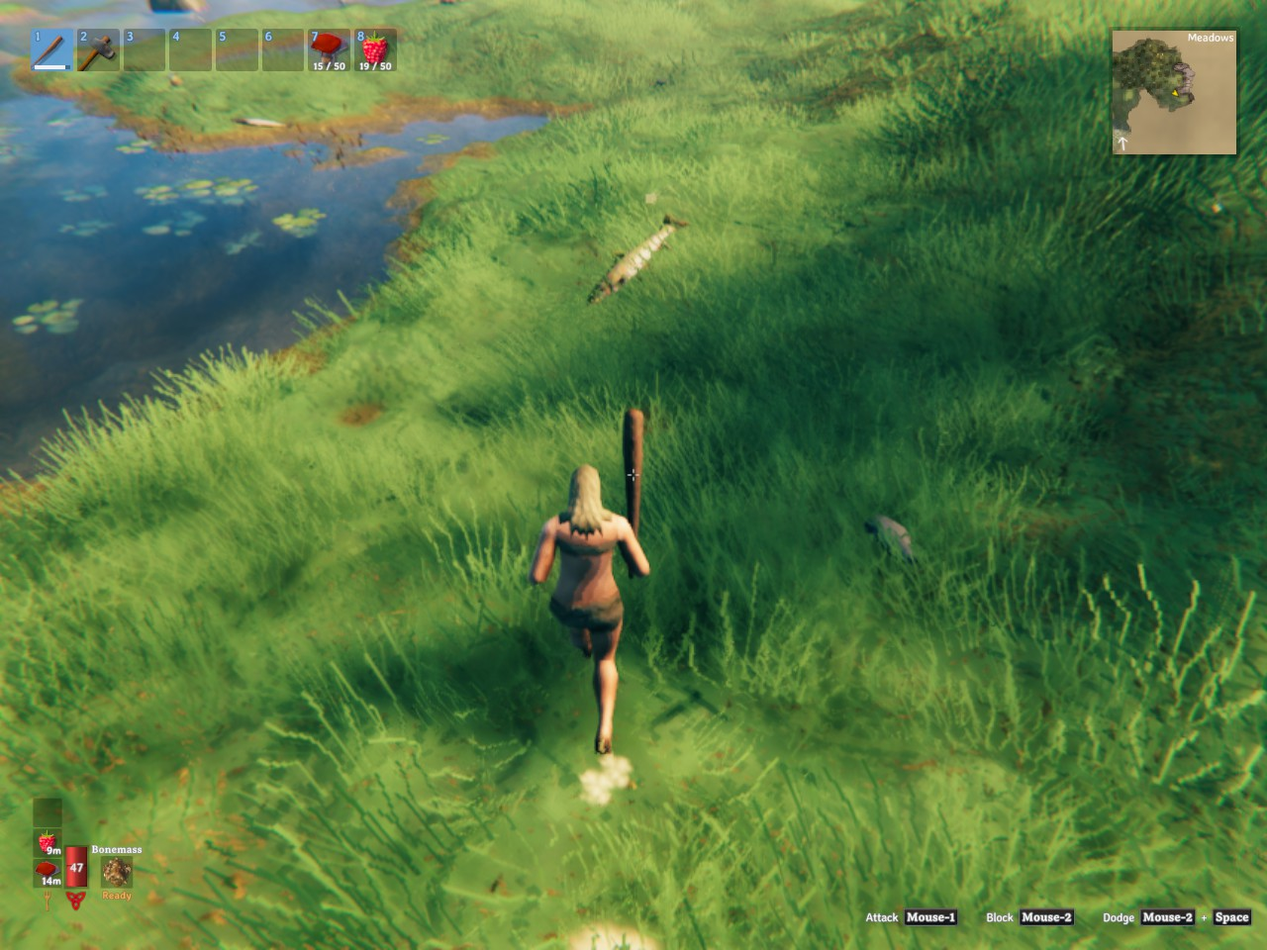Fish: (589, 216, 686, 302), (234, 117, 286, 127)
Flint: (865, 515, 915, 561)
